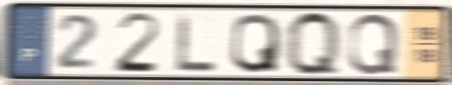2: (114, 10, 162, 75), (54, 12, 103, 71)
L: (175, 11, 218, 74)
Q: (283, 8, 344, 80), (346, 12, 401, 77), (228, 11, 282, 75)
